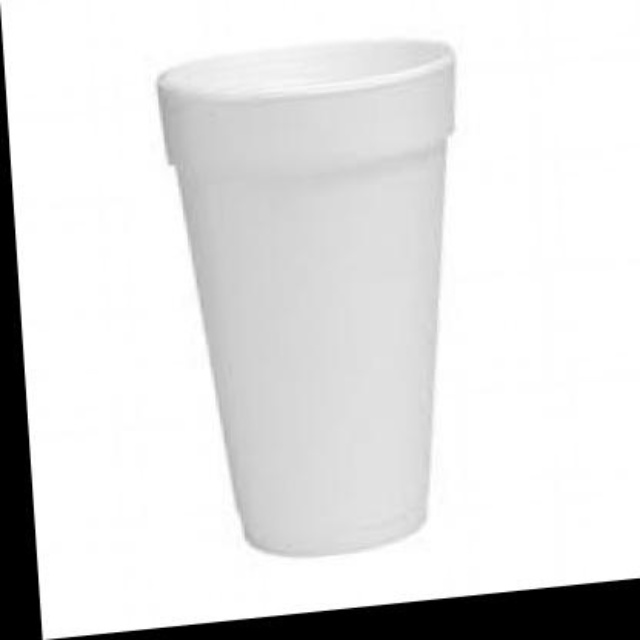trash: (158, 40, 452, 554)
